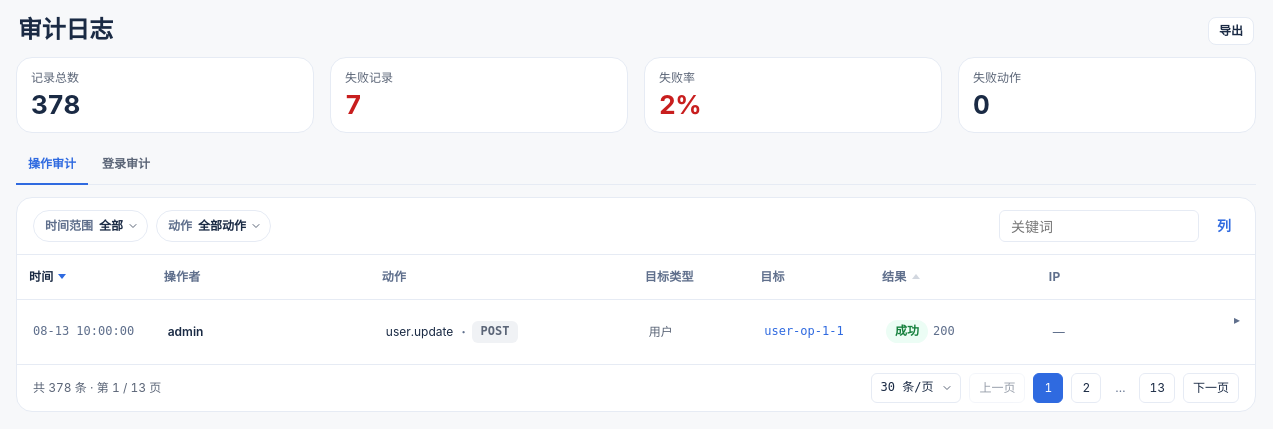
Test: AuditLogs 传统分页（方案 A） › 翻页：请求 page=2 且列表整体替换为第 2 页内容（无累加）
This screenshot has width=1273, height=429.
Click the button "下一页". click: [1211, 388]
box: x1=1183 y1=373 x2=1239 y2=403
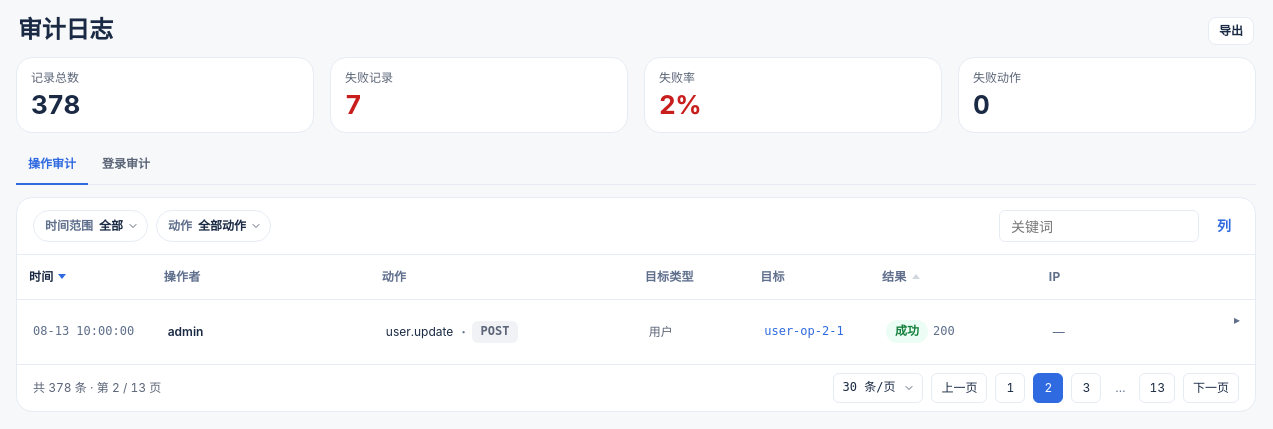
Result: the text "第 2 / 13 页" is shown at x1=33 y1=380 x2=161 y2=395
Result: the text "user-op-2-1" is shown at x1=764 y1=322 x2=844 y2=342
Result: the text "user-op-1-1" is gone
